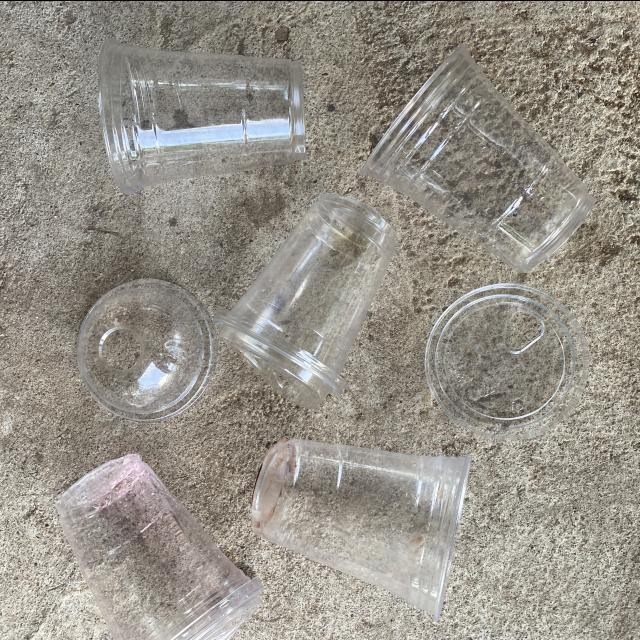plastik: (361, 44, 594, 271), (251, 439, 471, 619), (214, 192, 396, 406), (56, 453, 263, 640), (99, 37, 305, 193), (425, 282, 589, 440), (77, 279, 216, 421)
